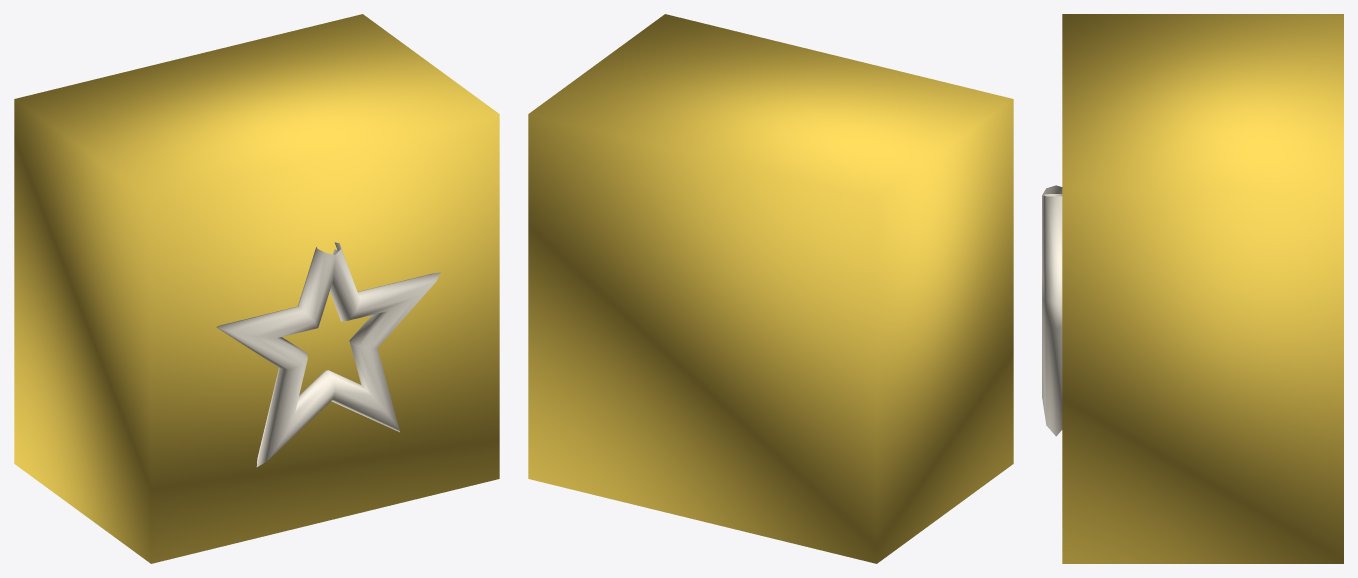
File: block_amber.glb
3 views of the same model, side by side, from view 1: azimuth 30°, elevation 25°; view 2: azimuth 150°, elevation 25°; view 3: azimuth 270°, elevation 25° (orthographic). The views are drawn at different scales.
Visible parts, largest first — view 1: amber, star_icon; view 2: amber; view 3: amber, star_icon.
Part boxes in pixels (x1=…): amber: x1=14, y1=14, x2=499, y2=563; star_icon: x1=216, y1=242, x2=440, y2=466; amber: x1=528, y1=14, x2=1013, y2=563; amber: x1=1062, y1=14, x2=1343, y2=563; star_icon: x1=1042, y1=185, x2=1062, y2=436.
Bounding box in the file's own units: 1 × 1 × 0.729.
